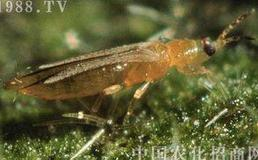tiny_pests: (0, 6, 258, 132)
